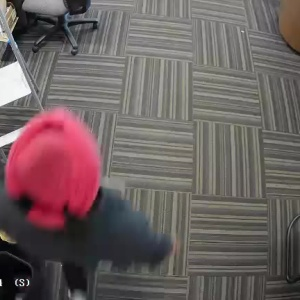person: (6, 104, 154, 271)
